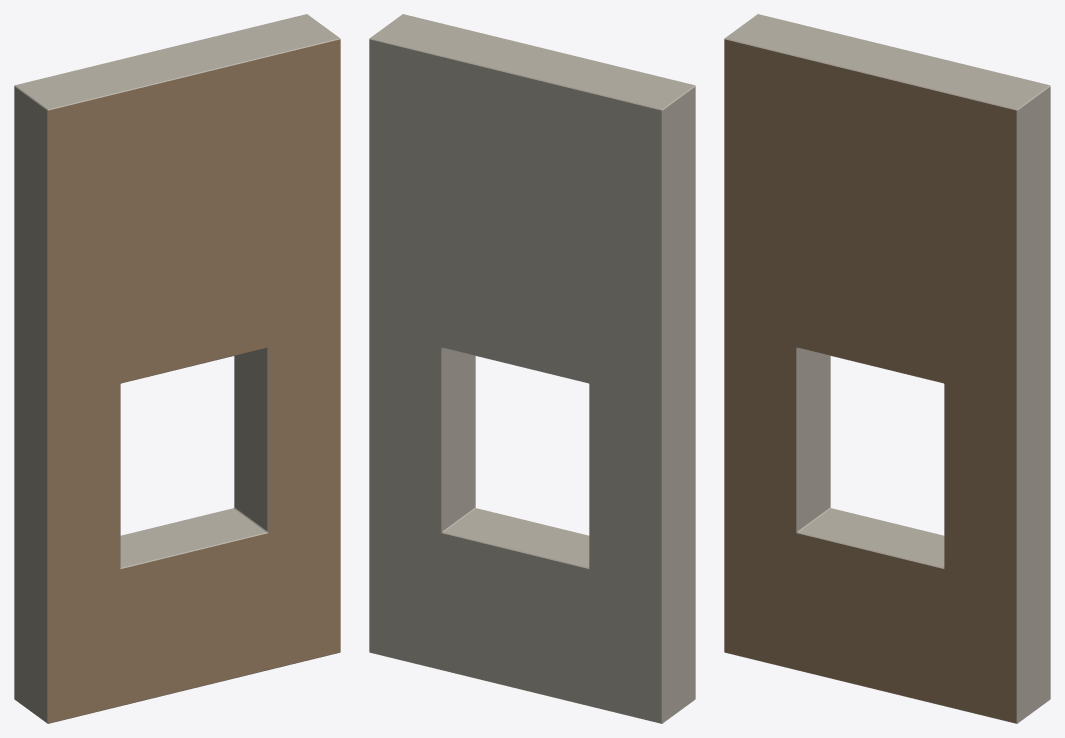
File: arch_wall_ext_window_w200_h400.glb
3 views of the same model, side by side, from view 1: azimuth 30°, elevation 25°; view 2: azimuth 150°, elevation 25°; view 3: azimuth 330°, elevation 25° (orthographic).
Visible parts, largest first — view 1: Wall; view 2: Wall; view 3: Wall.
Part boxes in pixels (x1,y1,x2,y2): Wall: (14,14,340,723); Wall: (369,14,695,723); Wall: (724,14,1050,723).
Size of what is drawn, in the model's own units: 2 by 4 by 0.4.
